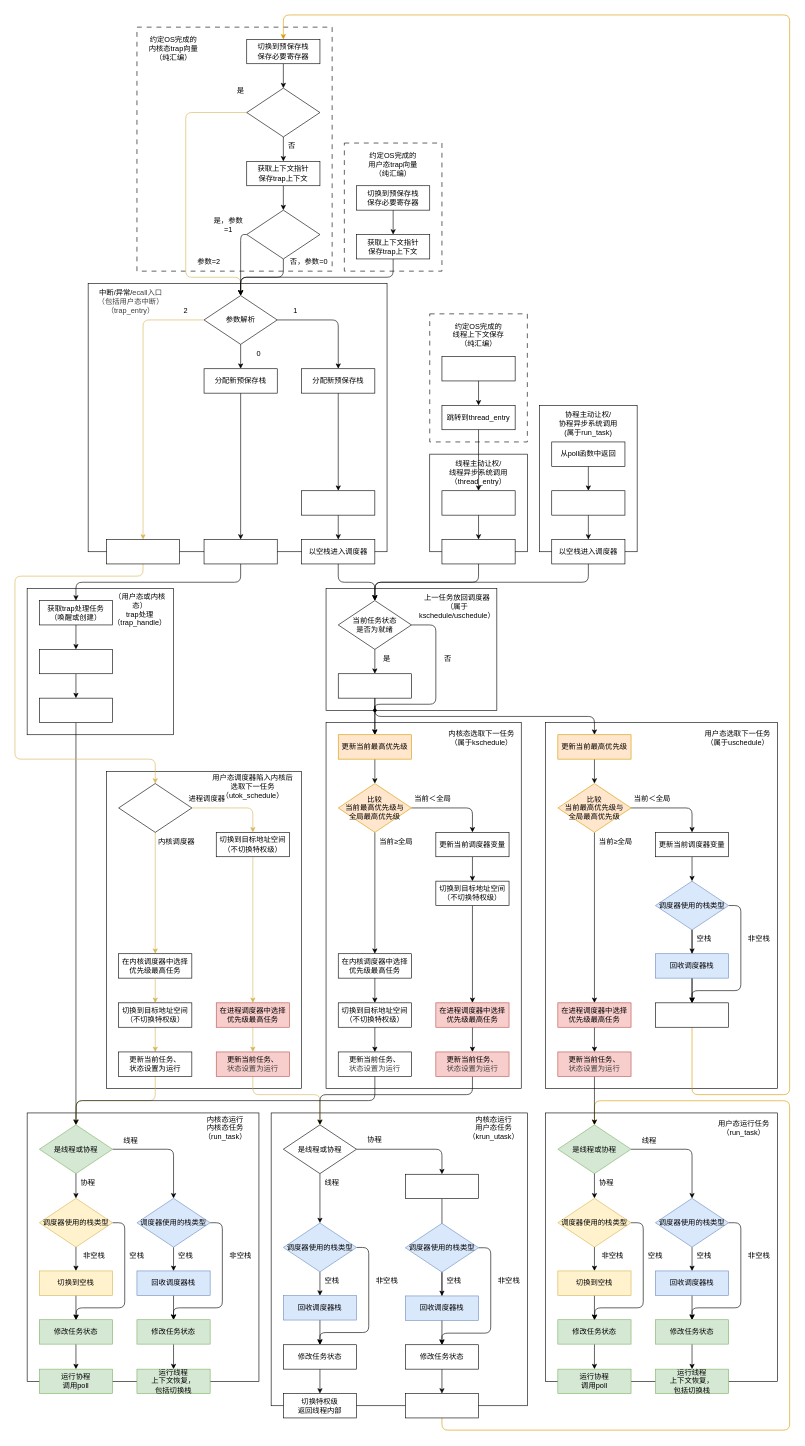
This 805x1446 diagram has some shape labels left out. The shapes that lost their labels are listed below. From the top down, each one's centre as x and y in pixels, then its label:
At point 283,112: "是否是特定的 系统调用(1)".
At point 283,234: "是否是外部中断".
At point 478,368: "保存线程上下文".
At point 338,502: "当前任务设置为就绪".
At point 478,502: "判断当前特权级".
At point 588,502: "根据返回值修改 任务状态".
At point 143,551: "以空栈进入utok_schedule".
At point 240,551: "以空栈进入trap处理".
At point 478,551: "以非空栈进入调度器".
At point 76,661: "设置当前任务变量 为 trap处理任务".
At point 374,685: "当前任务 放回调度器".
At point 76,710: "向trap处理任务传入 原任务和trap参数(5)".
At point 155,807: "根据当前调度器 变量的值分支".
At point 692,1014: "切换特权级 进入内核态调度器(1)".
At point 442,1186: "为用户态调度器 分配栈".
At point 442,1405: "切换特权级 以空栈返回 用户态调度器".
